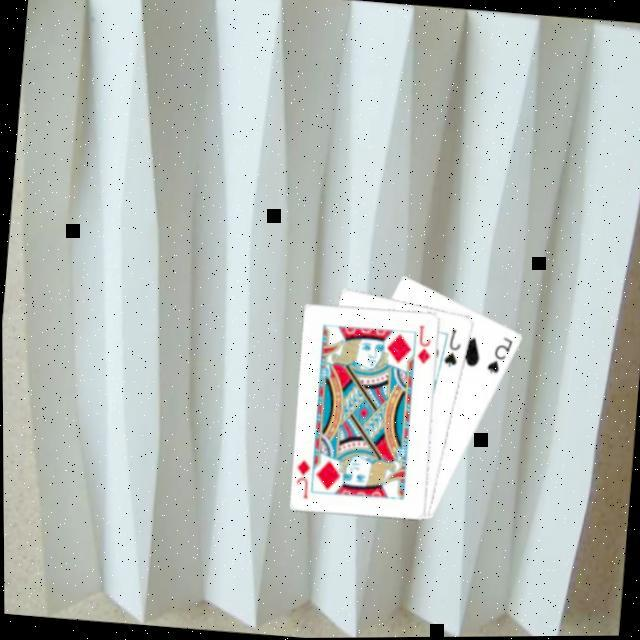5S: (480, 334, 514, 379)
JD: (409, 323, 433, 369), (288, 456, 312, 502)
JS: (437, 325, 462, 370)
